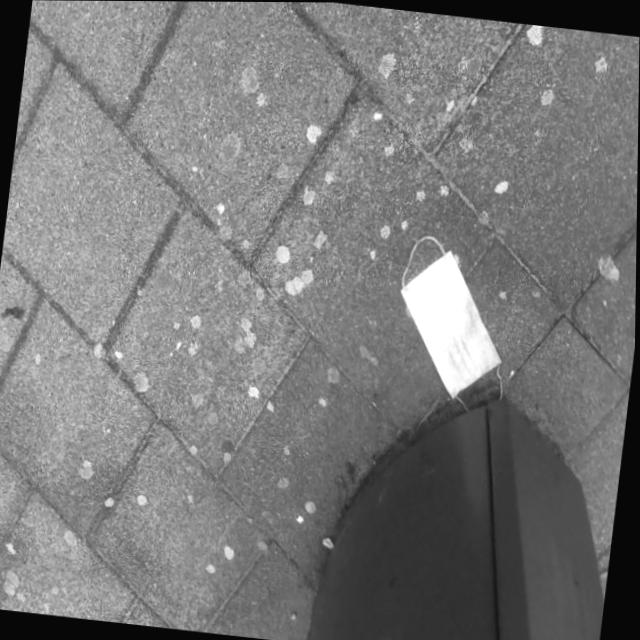Mask: (385, 229, 523, 418)
